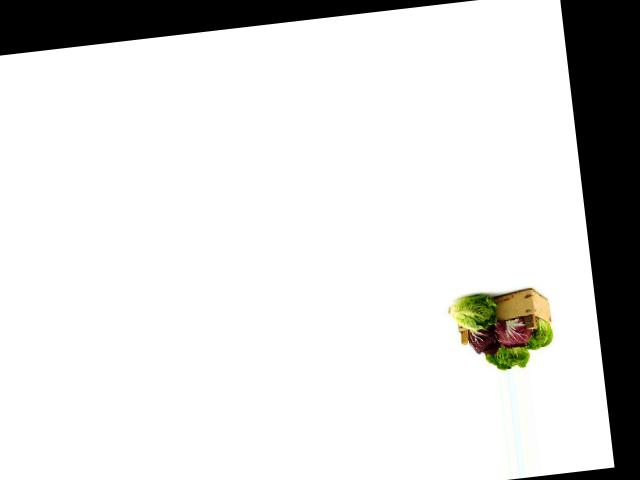lettuce: (483, 337, 531, 372)
